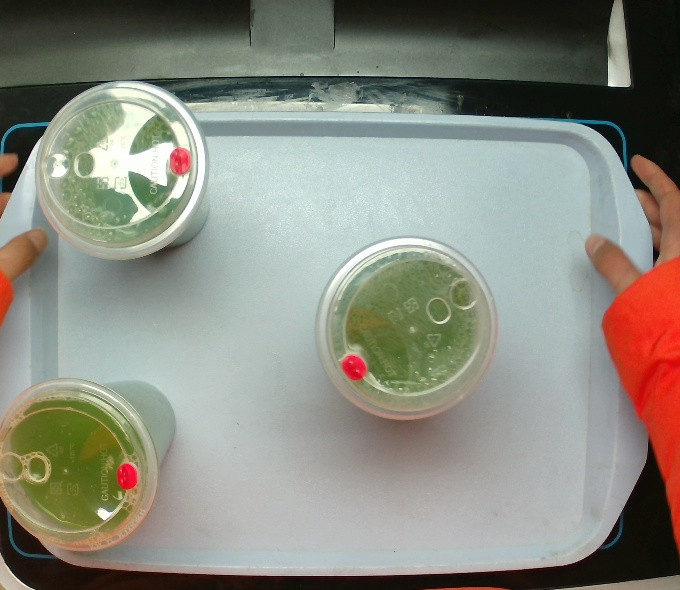wcq-HuangGuaZhi: (312, 233, 499, 422), (34, 78, 212, 263), (1, 376, 178, 553)
